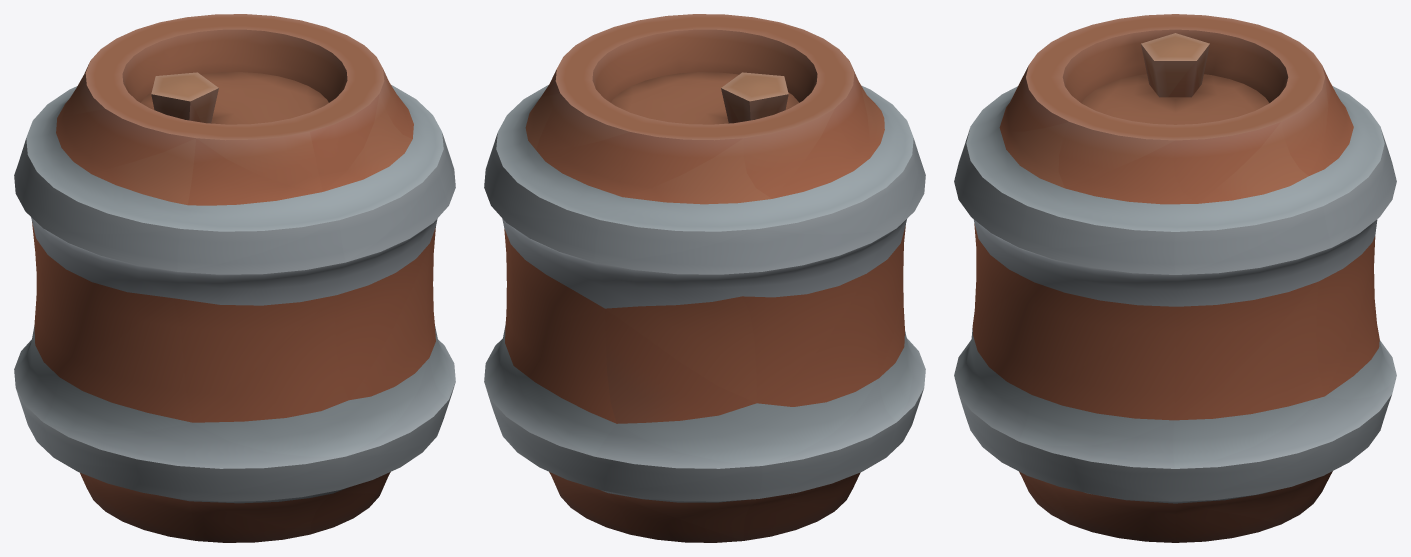
File: prop_barrel_small.glb
The picture shows the model from 3 angles, left to right: view 1: azimuth 30°, elevation 25°; view 2: azimuth 150°, elevation 25°; view 3: azimuth 270°, elevation 25°; orthographic projection.
Parts seen in each view (by area): view 1: refined; view 2: refined; view 3: refined.
Boxes of the visible parts, <box> form: refined: <box>14,14,455,542</box>; refined: <box>484,14,925,542</box>; refined: <box>954,14,1396,542</box>.
Bounding box in the file's own units: 1 × 1.02 × 1.
